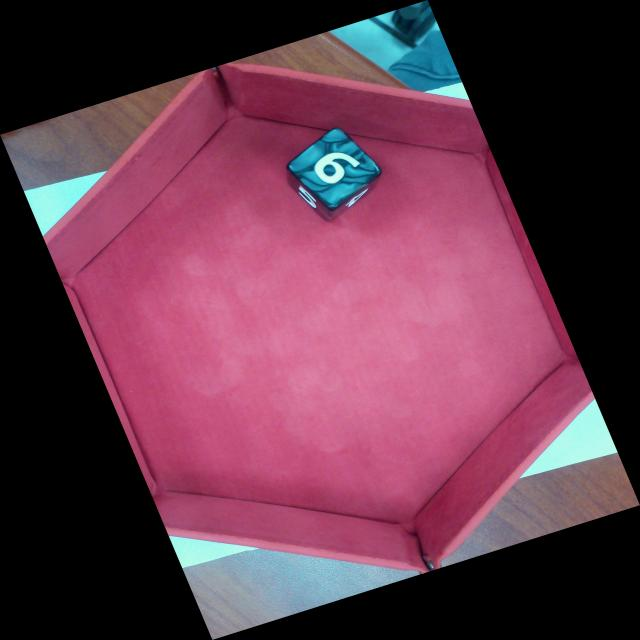dice: (284, 126, 388, 206)
